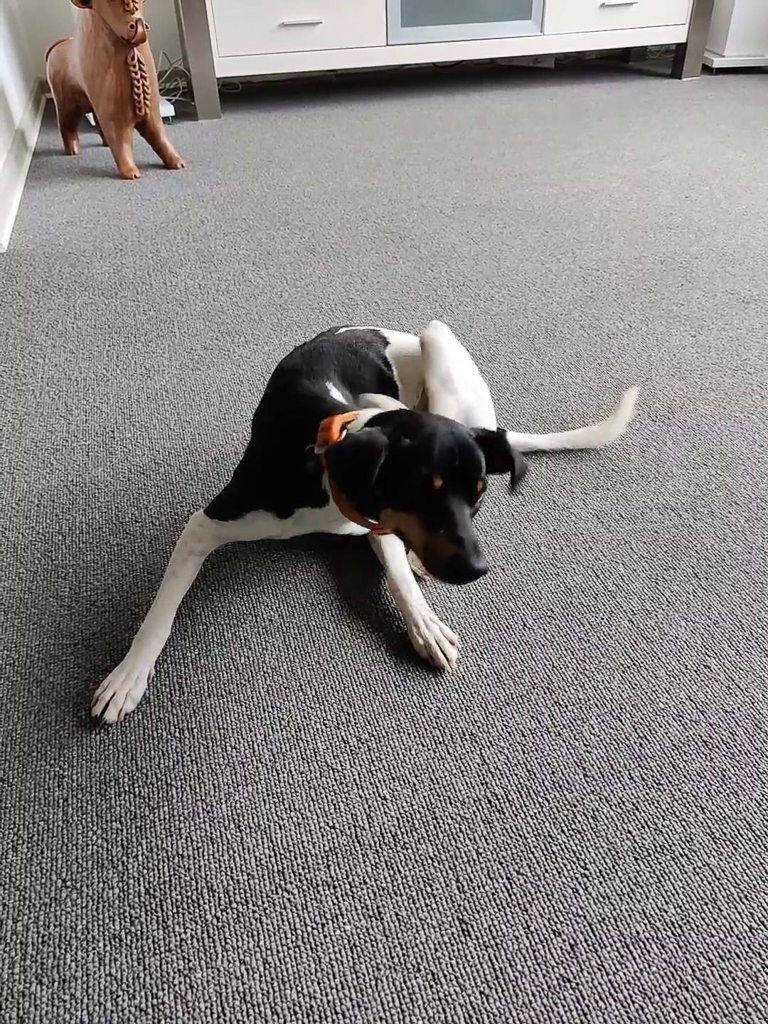Cattle: (23, 0, 199, 183)
Dog: (74, 298, 654, 742)
